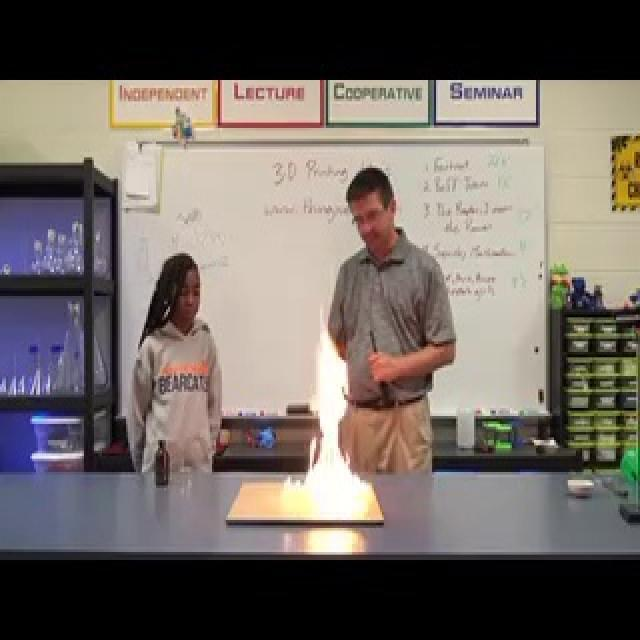fire: (293, 306, 371, 514)
